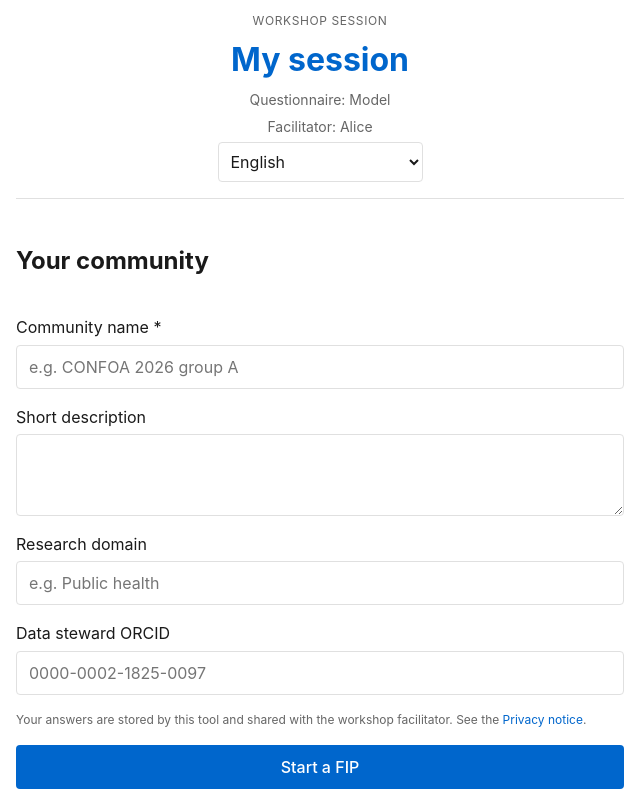
Test: JoinSession.vue › maps a 409 session_closed from POST /fips to the closed-session message
Type "My community" into the field labelled "Community name *" at (320, 367), box [16,345,624,389]
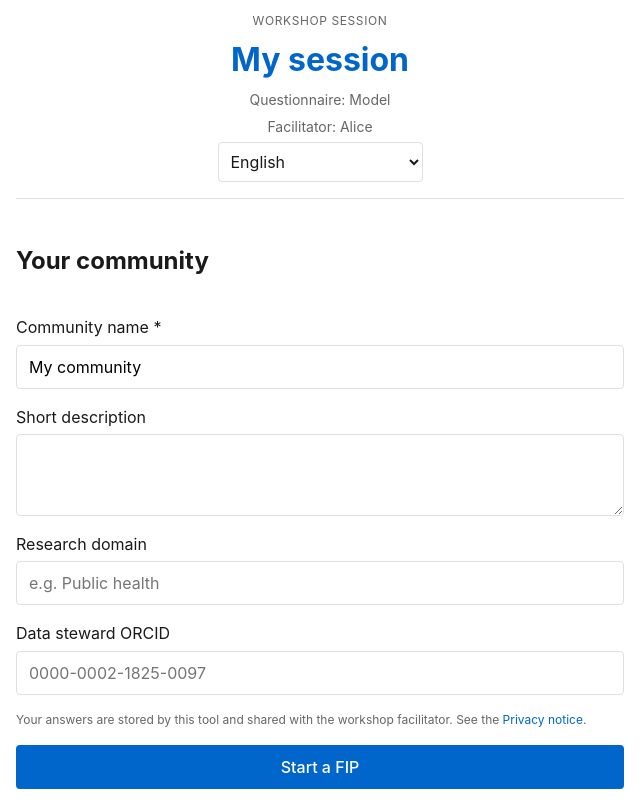
Submit the form
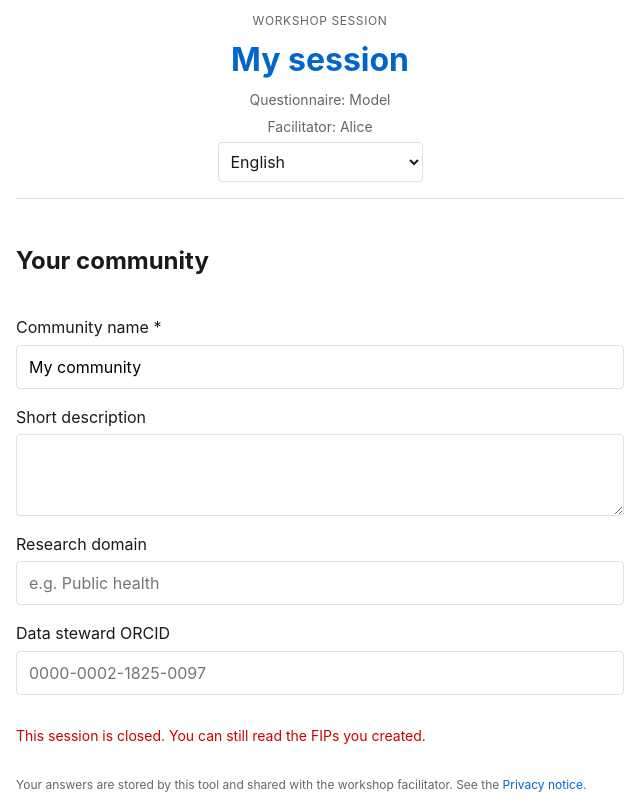
Now the text "This session is closed. You can still read the FIPs you created." is shown, box [16,727,426,744]
